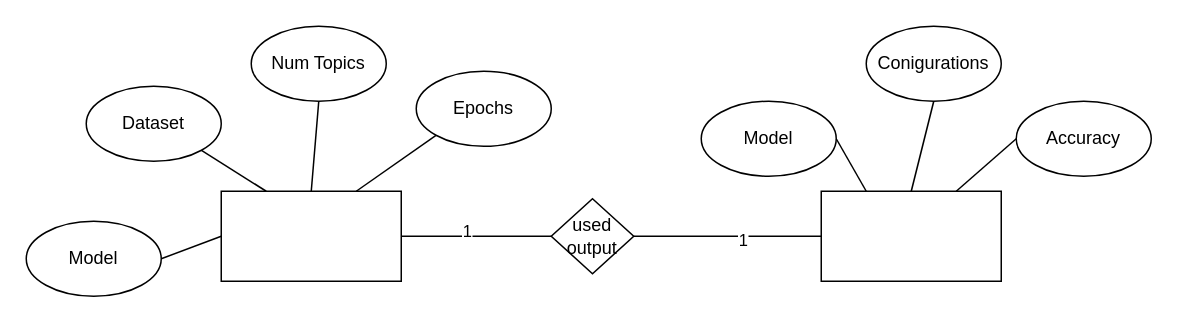
Image size: 1178x323. Some labels were removed from this diagram. The centre of each missing label's shape, as x and y in pixels:
"Forecast Model" belongs at point (910, 235).
"Topic Model" belongs at point (310, 235).
